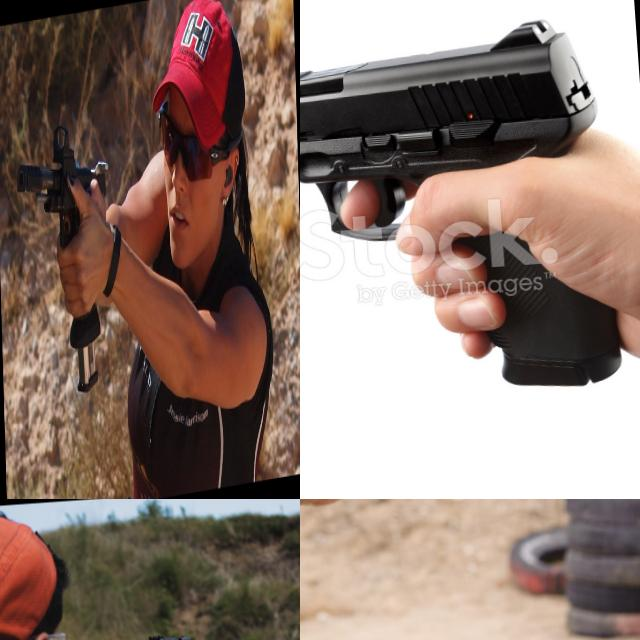handgun: (300, 9, 632, 420), (15, 112, 116, 412), (347, 499, 430, 537), (141, 628, 197, 640)
